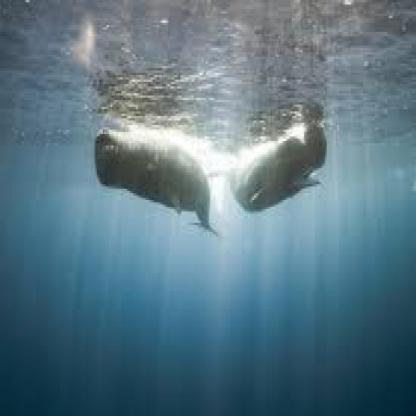blue_whale: (76, 109, 218, 277)
